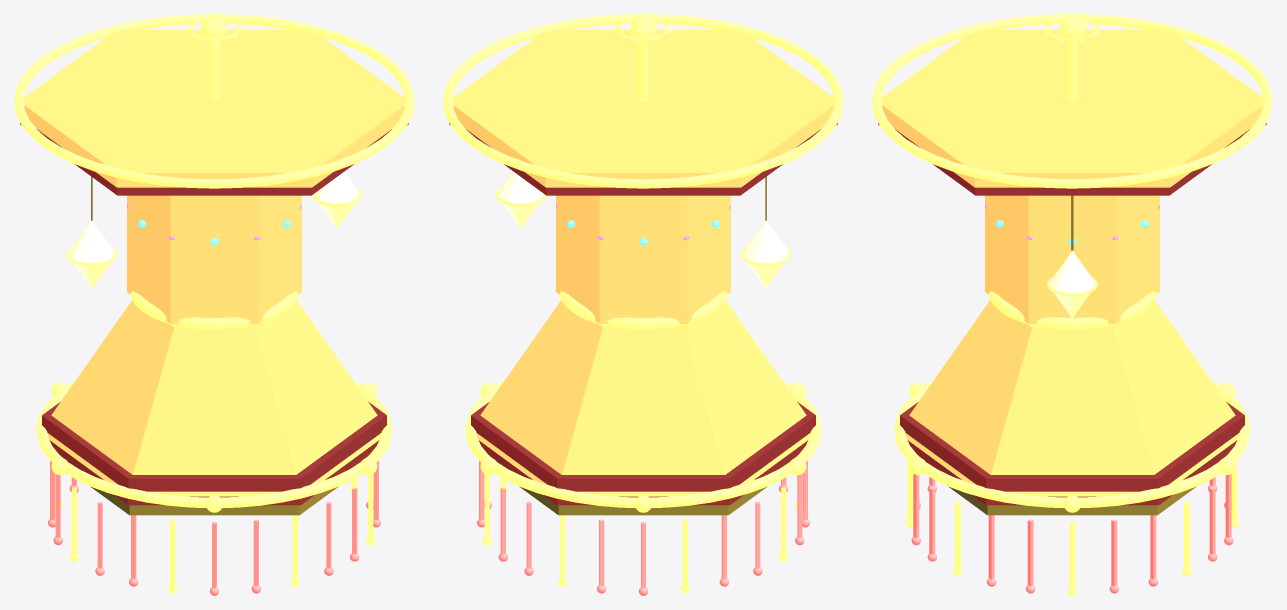
The model's file is poson AR modle.glb.
3 views of the same model, side by side, from view 1: azimuth 30°, elevation 25°; view 2: azimuth 150°, elevation 25°; view 3: azimuth 270°, elevation 25° (orthographic).
Parts seen in each view (by area): view 1: Canopy_Top, LowerSkirt, UpperBody, Canopy_GoldTrim, Skirt_DarkBand, Skirt_GoldTrim, Canopy_Band, Skirt_ScrollBand, WaistRing, SubLantern_Left, SubLantern_Right, TopPole (+1 smaller); view 2: Canopy_Top, LowerSkirt, UpperBody, Canopy_GoldTrim, Skirt_DarkBand, Skirt_GoldTrim, Canopy_Band, Skirt_ScrollBand, WaistRing, SubLantern_Left, SubLantern_Right, TopPole (+1 smaller); view 3: Canopy_Top, LowerSkirt, UpperBody, Canopy_GoldTrim, Skirt_DarkBand, Skirt_GoldTrim, Canopy_Band, Skirt_ScrollBand, WaistRing, SubLantern_Right, TopPole, TopBall.
Part boxes in pixels (x1,y1,x2,y2): Canopy_Top: [23, 29, 405, 187]; LowerSkirt: [47, 300, 381, 496]; UpperBody: [127, 195, 301, 323]; Canopy_GoldTrim: [14, 14, 414, 188]; Skirt_DarkBand: [42, 402, 386, 505]; Skirt_GoldTrim: [36, 381, 392, 507]; Canopy_Band: [20, 123, 408, 195]; Skirt_ScrollBand: [67, 461, 361, 515]; WaistRing: [130, 291, 298, 329]; SubLantern_Left: [69, 221, 114, 288]; SubLantern_Right: [314, 171, 359, 228]; TopPole: [209, 42, 219, 101]; Canopy_Top: [452, 29, 834, 187]; LowerSkirt: [476, 300, 810, 496]; UpperBody: [556, 195, 730, 323]; Canopy_GoldTrim: [443, 14, 843, 188]; Skirt_DarkBand: [471, 402, 815, 505]; Skirt_GoldTrim: [465, 381, 821, 507]; Canopy_Band: [449, 123, 837, 195]; Skirt_ScrollBand: [496, 461, 790, 515]; WaistRing: [559, 291, 727, 329]; SubLantern_Left: [743, 221, 788, 288]; SubLantern_Right: [498, 171, 543, 228]; TopPole: [638, 42, 648, 101]; Canopy_Top: [881, 29, 1263, 187]; LowerSkirt: [905, 300, 1239, 496]; UpperBody: [985, 195, 1159, 323]; Canopy_GoldTrim: [872, 14, 1272, 188]; Skirt_DarkBand: [900, 402, 1244, 505]; Skirt_GoldTrim: [894, 381, 1250, 507]; Canopy_Band: [878, 123, 1266, 195]; Skirt_ScrollBand: [925, 461, 1219, 515]; WaistRing: [988, 291, 1156, 329]; SubLantern_Right: [1049, 250, 1095, 318]; TopPole: [1067, 41, 1077, 101]; TopBall: [1059, 15, 1085, 42].
Bounding box in the file's own units: 2.97 × 4.18 × 2.97.
